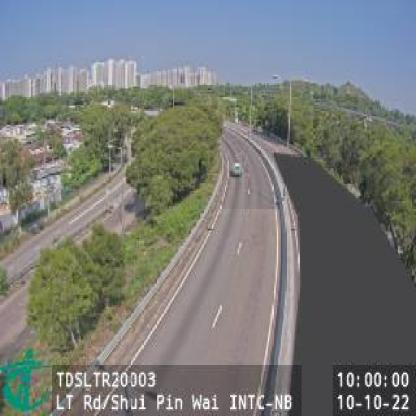Car: (230, 161, 243, 178)
